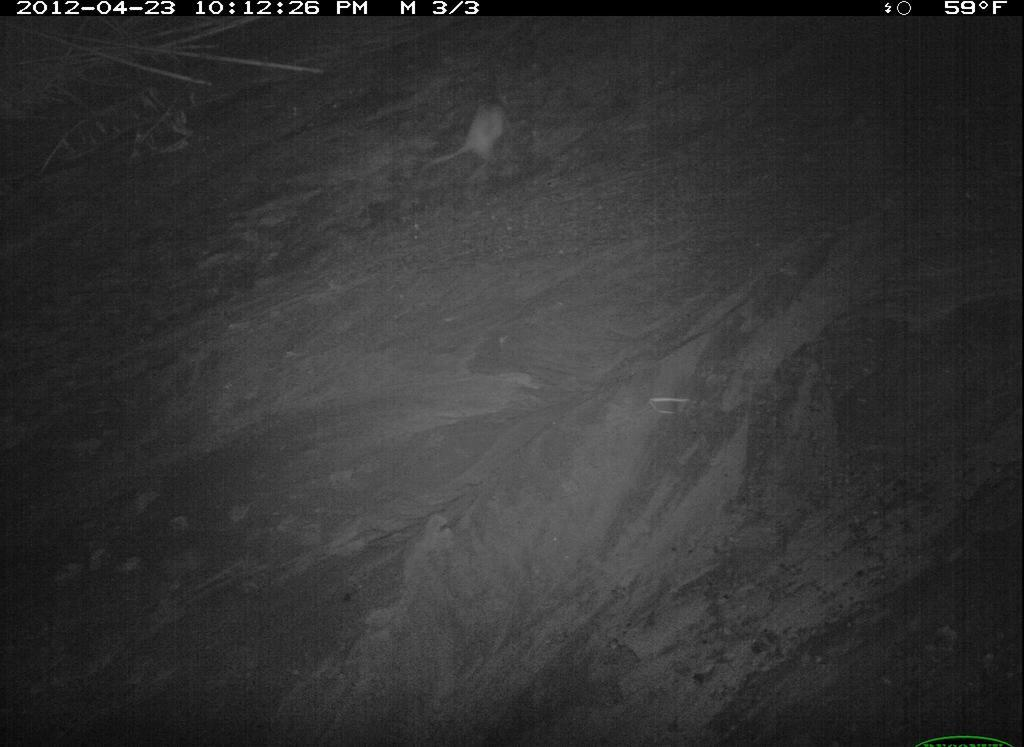opossum: (825, 185, 1024, 354)
